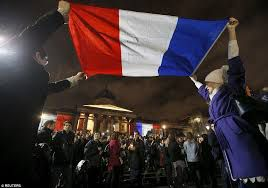French Flag: (70, 2, 227, 78)
